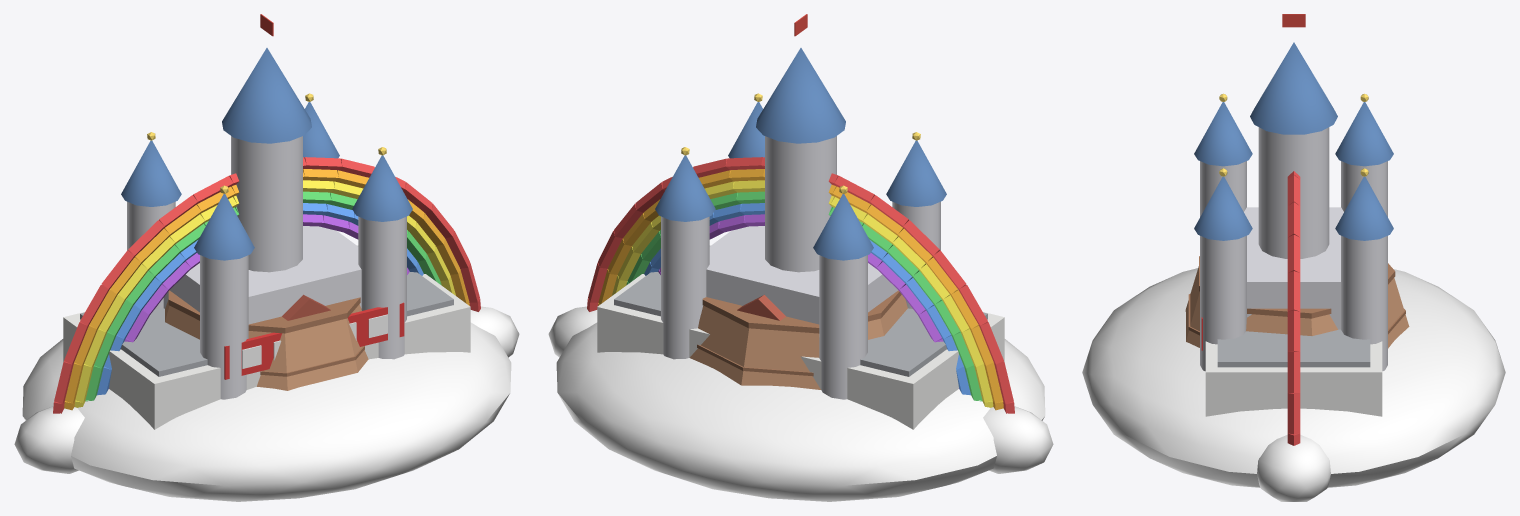
Rendered from SceneryKit.fbx.
The picture shows the model from 3 angles, left to right: view 1: azimuth 30°, elevation 25°; view 2: azimuth 150°, elevation 25°; view 3: azimuth 270°, elevation 25°; orthographic projection. The views are drawn at different scales.
Visible parts, largest first — view 1: CloudCastle__Cloud, CloudCastle__Castle, CloudCastle__Roof2, Supermarket__White, Rainbow__R1, Mesa__Rock, Rainbow__R2, Rainbow__Cloud, Supermarket__Metal, Rainbow__R3, Rainbow__R4, Rainbow__R5 (+5 smaller); view 2: CloudCastle__Cloud, CloudCastle__Castle, CloudCastle__Roof2, Supermarket__White, Mesa__Rock, Rainbow__R1, Rainbow__R2, Rainbow__Cloud, Supermarket__Metal, Rainbow__R3, Rainbow__R4, Rainbow__R5 (+3 smaller); view 3: CloudCastle__Cloud, CloudCastle__Castle, CloudCastle__Roof2, Supermarket__White, Supermarket__Metal, Rainbow__Cloud, Rainbow__R1, Mesa__Rock, Mesa__RockDark.
Part boxes in pixels (left/top/right/bottom): CloudCastle__Cloud: left=22, top=322, right=511, bottom=501; CloudCastle__Castle: left=127, top=136, right=406, bottom=399; CloudCastle__Roof2: left=121, top=48, right=412, bottom=260; Supermarket__White: left=63, top=245, right=470, bottom=429; Rainbow__R1: left=53, top=157, right=480, bottom=413; Mesa__Rock: left=165, top=299, right=368, bottom=390; Rainbow__R2: left=64, top=169, right=469, bottom=410; Rainbow__Cloud: left=14, top=306, right=519, bottom=473; Supermarket__Metal: left=80, top=272, right=453, bottom=376; Rainbow__R3: left=74, top=180, right=455, bottom=407; Rainbow__R4: left=85, top=191, right=441, bottom=401; Rainbow__R5: left=97, top=203, right=423, bottom=395; CloudCastle__Cloud: left=556, top=322, right=1045, bottom=501; CloudCastle__Castle: left=661, top=136, right=940, bottom=399; CloudCastle__Roof2: left=655, top=48, right=946, bottom=260; Supermarket__White: left=597, top=245, right=1004, bottom=429; Mesa__Rock: left=690, top=294, right=907, bottom=389; Rainbow__R1: left=587, top=157, right=1014, bottom=413; Rainbow__R2: left=598, top=169, right=1003, bottom=410; Rainbow__Cloud: left=548, top=306, right=1053, bottom=473; Supermarket__Metal: left=614, top=272, right=987, bottom=376; Rainbow__R3: left=612, top=180, right=993, bottom=407; Rainbow__R4: left=626, top=191, right=982, bottom=401; Rainbow__R5: left=644, top=203, right=970, bottom=395; CloudCastle__Cloud: left=1082, top=268, right=1505, bottom=487; CloudCastle__Castle: left=1200, top=127, right=1387, bottom=371; CloudCastle__Roof2: left=1194, top=42, right=1393, bottom=240; Supermarket__White: left=1205, top=341, right=1382, bottom=416; Supermarket__Metal: left=1217, top=329, right=1370, bottom=367; Rainbow__Cloud: left=1257, top=435, right=1330, bottom=501; Rainbow__R1: left=1287, top=171, right=1300, bottom=445; Mesa__Rock: left=1185, top=266, right=1409, bottom=348; Mesa__RockDark: left=1188, top=256, right=1405, bottom=335.
Bounding box in the file's own units: 93.31 × 77.7 × 72.
